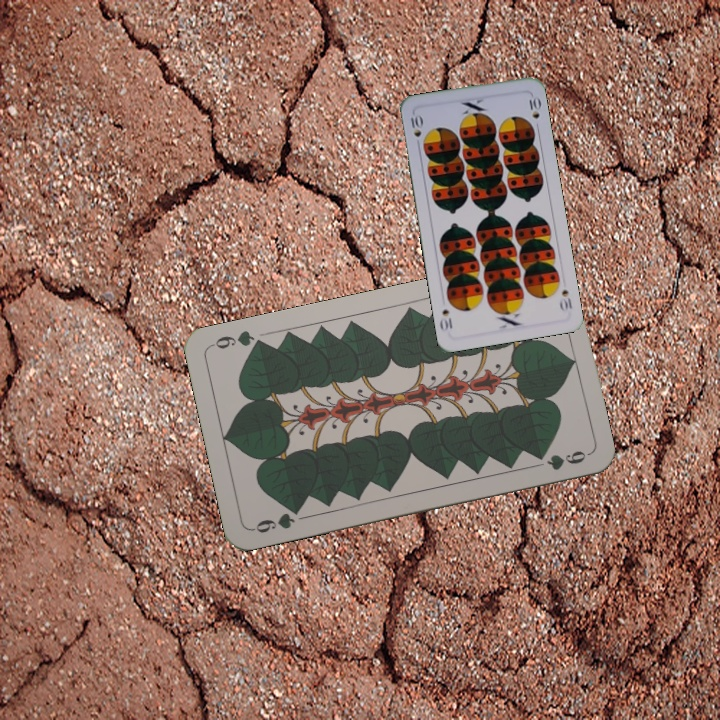G9: (248, 503, 304, 536)
S10: (407, 111, 425, 150), (556, 285, 575, 313)
